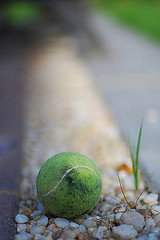tennis ball: (34, 151, 104, 218)
